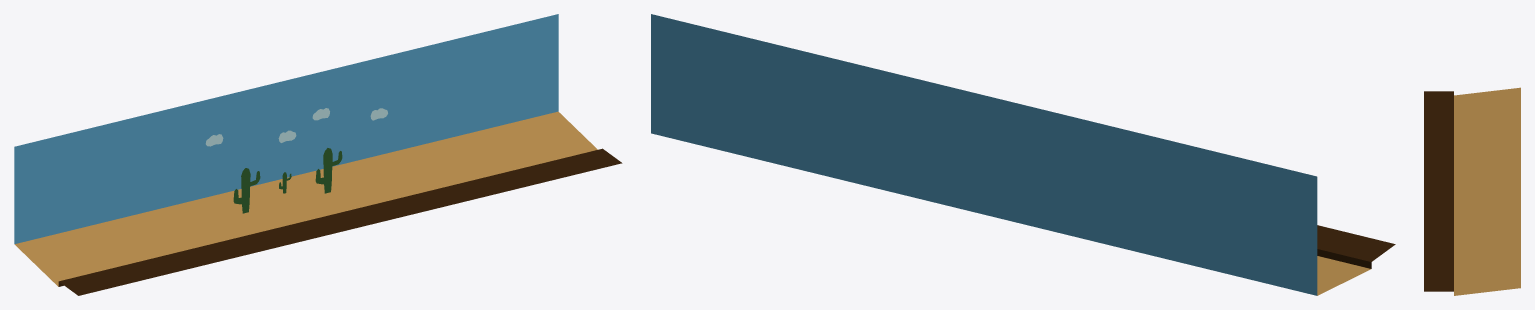
The model's file is Outside_Door.fbx.
3 views of the same model, side by side, from view 1: azimuth 30°, elevation 25°; view 2: azimuth 150°, elevation 25°; view 3: azimuth 270°, elevation 25° (orthographic). The views are drawn at different scales.
Parts seen in each view (by area): view 1: Outside_Door; view 2: Outside_Door; view 3: Outside_Door.
Boxes of the visible parts, box(x1,y1,x2,y2) form: Outside_Door: box(14, 14, 622, 295); Outside_Door: box(651, 14, 1395, 295); Outside_Door: box(1424, 87, 1520, 295).
Bounding box in the file's own units: 1668 × 316 × 341.
